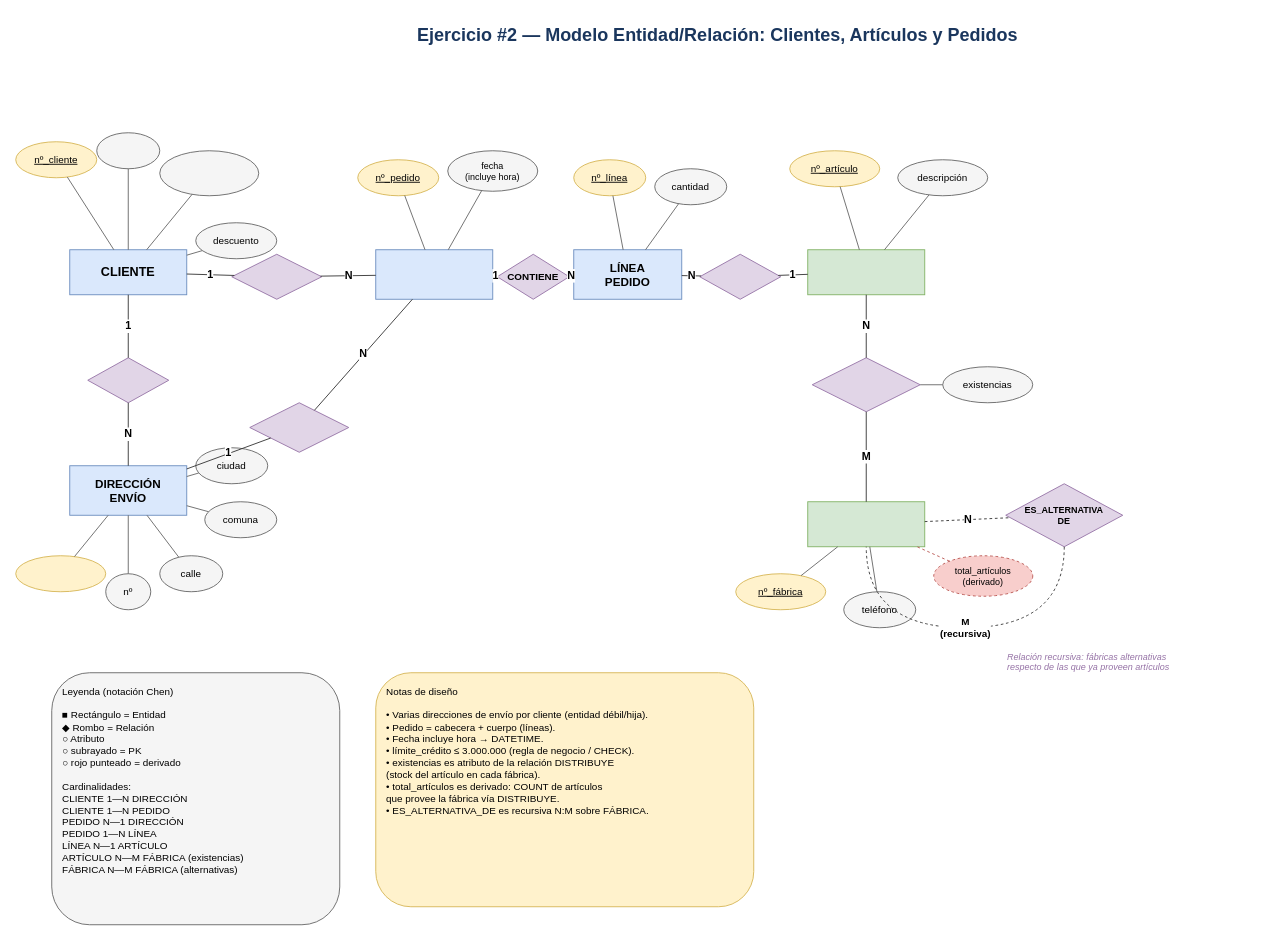
Image size: 1274x941. Some labels were removed from this diagram. Here are the shapes that lost their labels. From the top down, the box of each, then its label:
(96, 132, 160, 169): saldo
(159, 150, 259, 196): límite_crédito (≤ 3.000.000)
(231, 253, 322, 299): REALIZA
(375, 249, 493, 299): PEDIDO (cabecera)
(699, 253, 781, 299): DETALLA
(807, 249, 925, 295): ARTÍCULO
(87, 357, 169, 403): TIENE
(811, 357, 920, 412): DISTRIBUYE
(249, 402, 349, 452): SE_ENVÍA_A
(807, 501, 925, 547): FÁBRICA
(15, 555, 106, 592): id_dirección
